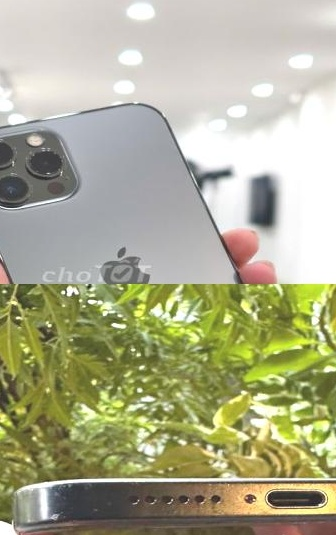scratch: (1, 475, 136, 535), (212, 467, 249, 510), (169, 504, 185, 524)
